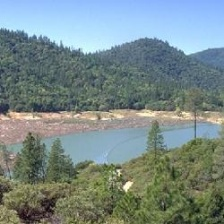neutral: (1, 13, 223, 224)
